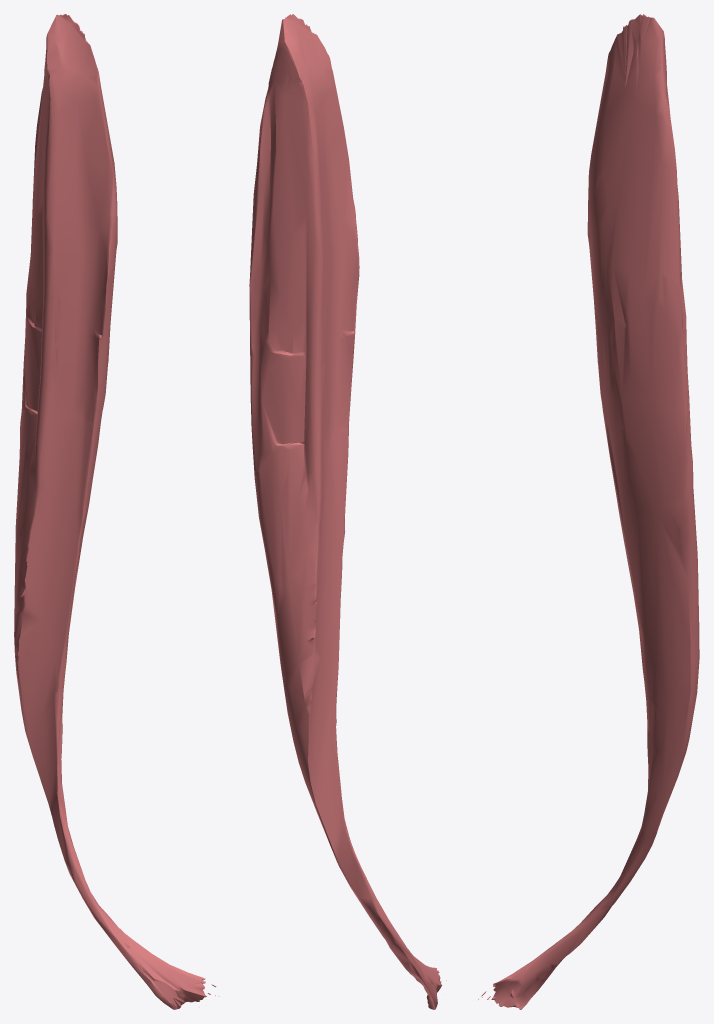
3 views of the same model, side by side, from view 1: azimuth 90°, elevation 25°; view 2: azimuth 150°, elevation 25°; view 3: azimuth 270°, elevation 25° (orthographic). The views are drawn at different scales.
Visible parts, largest first — view 1: FJ1439M; view 2: FJ1439M; view 3: FJ1439M.
Boxes of the visible parts, x1=… form: FJ1439M: x1=14, y1=14, x2=219, y2=1009; FJ1439M: x1=249, y1=14, x2=446, y2=1009; FJ1439M: x1=478, y1=14, x2=699, y2=1009.
Bounding box in the file's own units: 0.0495 × 0.3907 × 0.0764.
